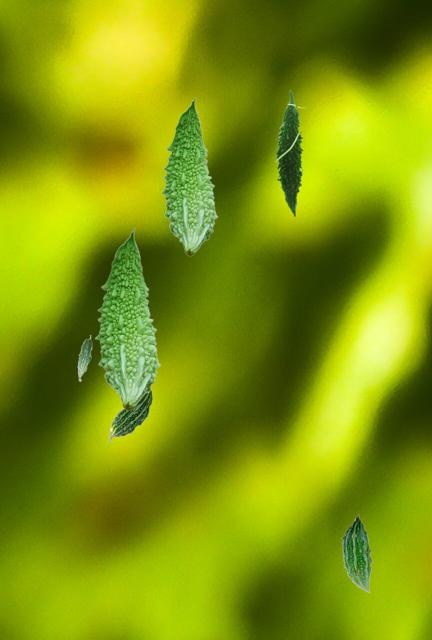ampalaya: (94, 227, 161, 411), (160, 96, 218, 256), (273, 89, 307, 217), (341, 513, 373, 593), (107, 390, 153, 442), (77, 334, 92, 382)
